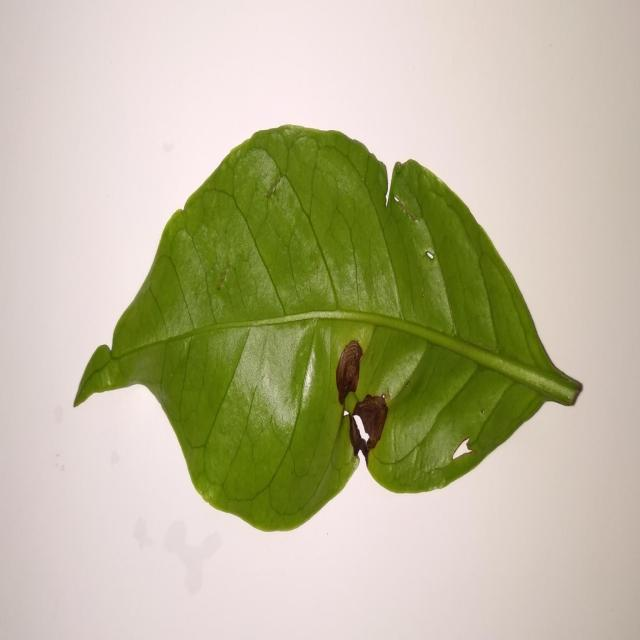Enfermedad-Antracnosis: (72, 126, 584, 536)
